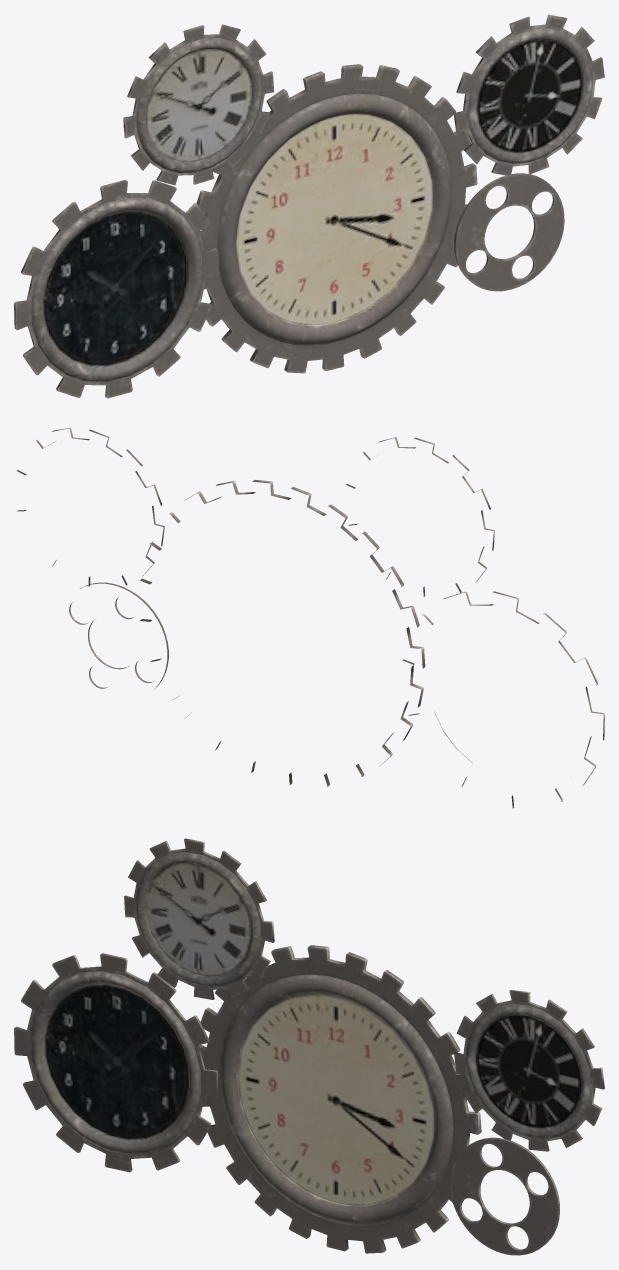
Rendered from SM_Decor_Wall_Clock_9762c4.glb.
3 renders of one model, top to bottom at view 1: azimuth 30°, elevation 25°; view 2: azimuth 150°, elevation 25°; view 3: azimuth 330°, elevation 25°, orthographic.
Size of the model in its own units: 1.27 by 0.7725 by 0.0255.
Materials: 1 (1 with a texture image).
